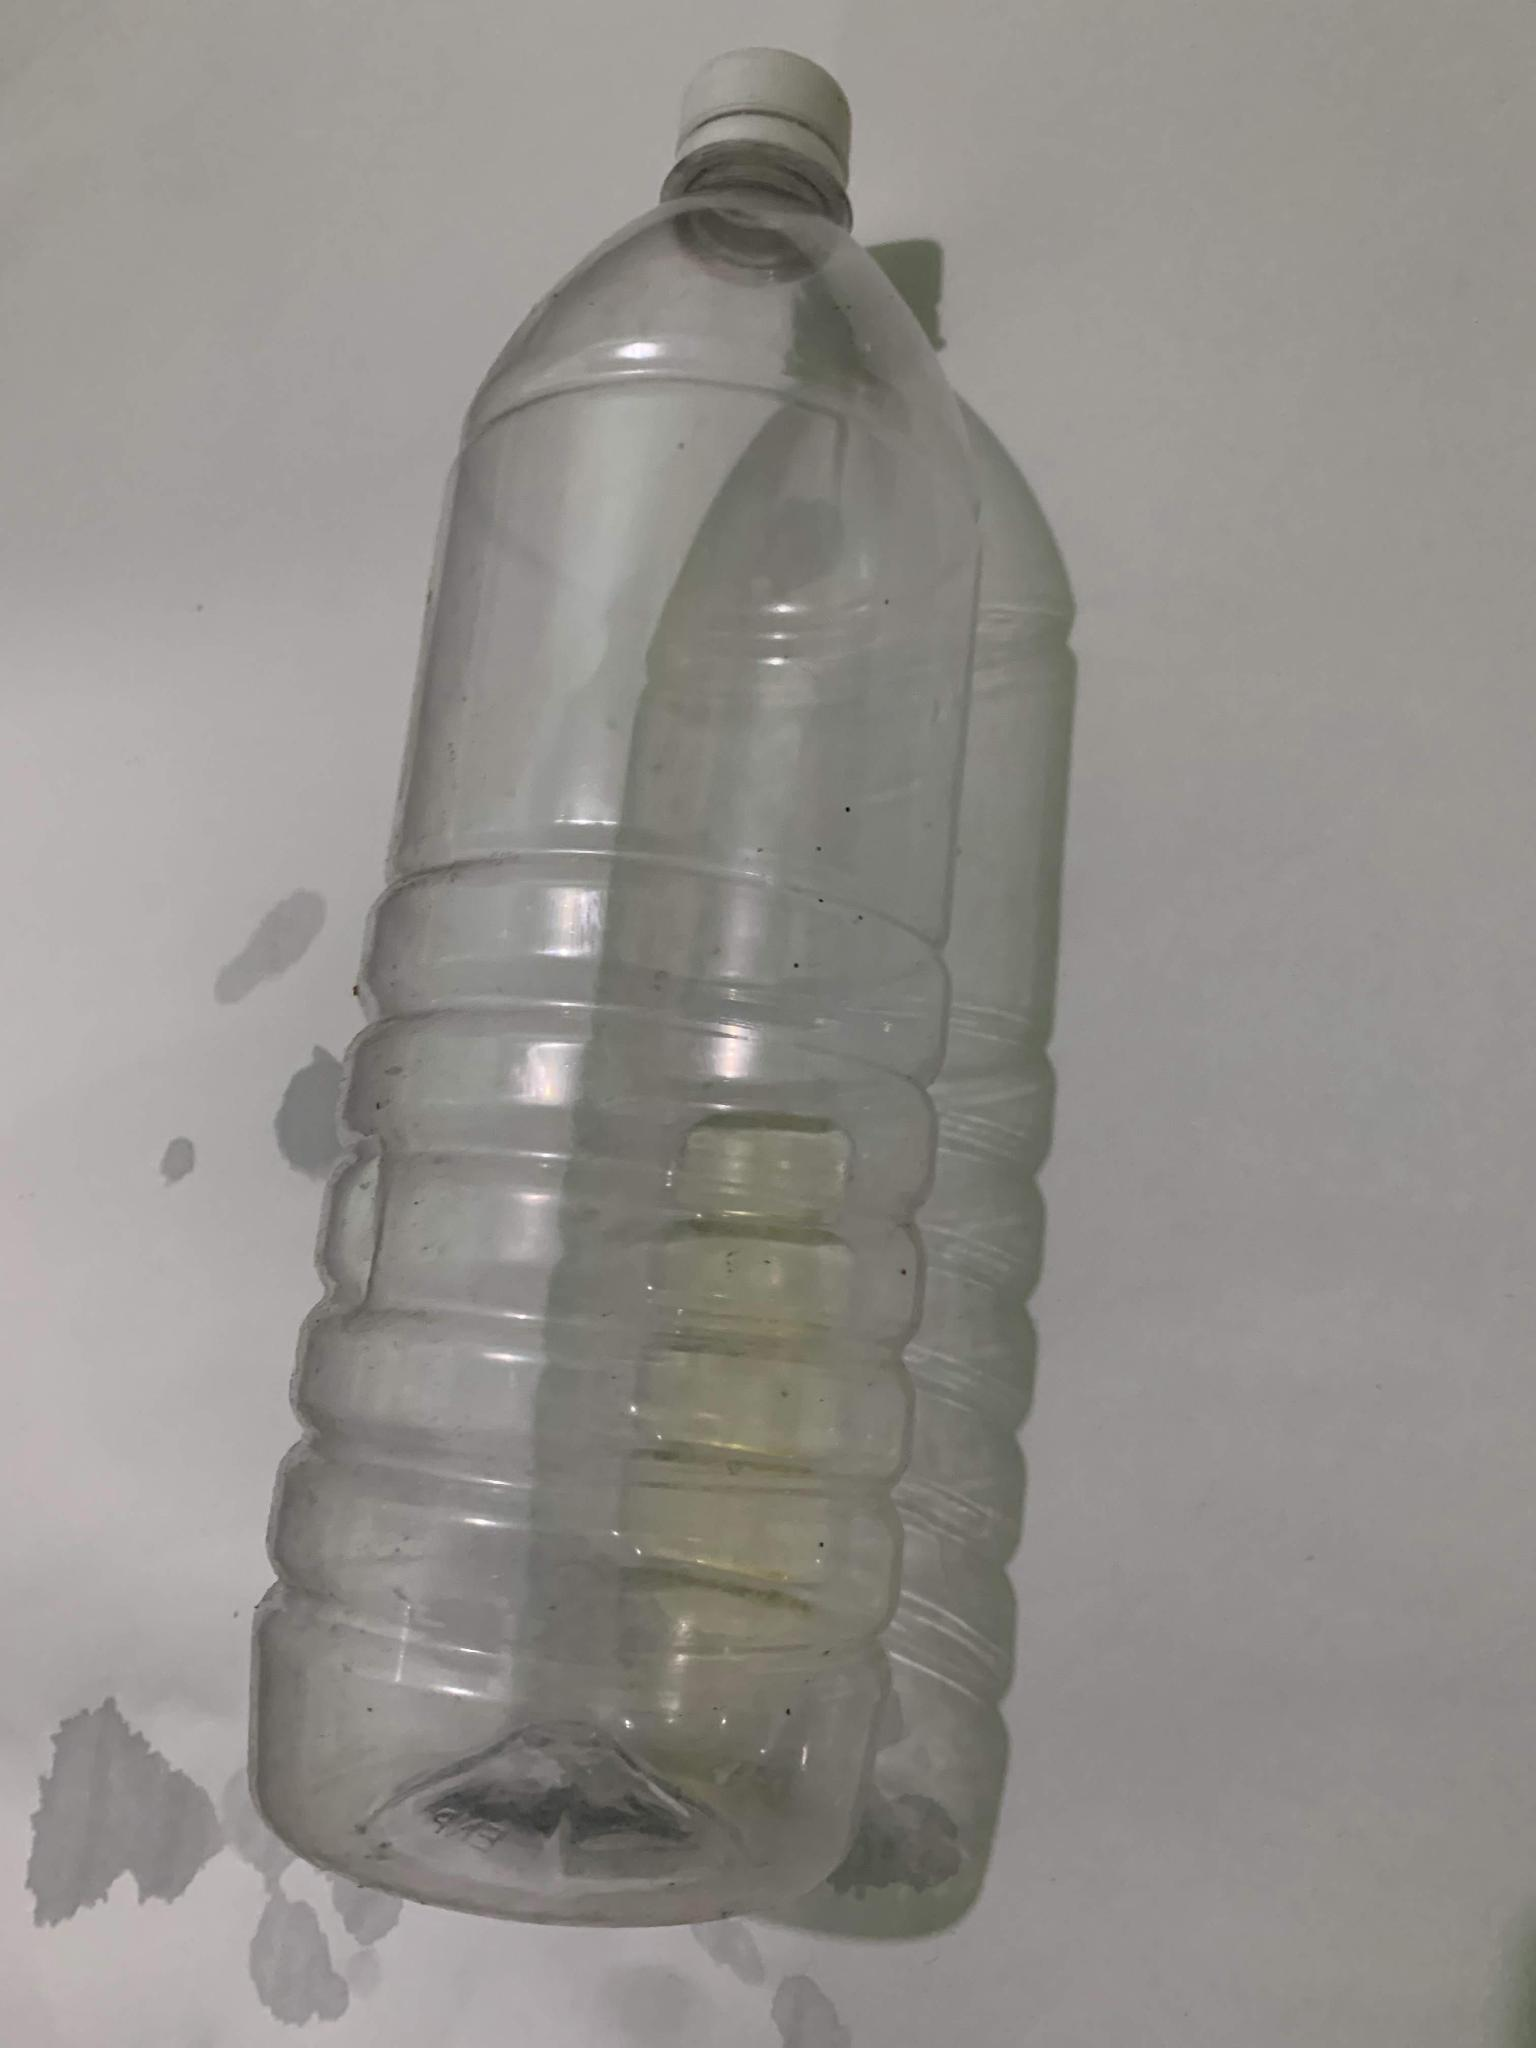bottle: (239, 31, 991, 1935)
